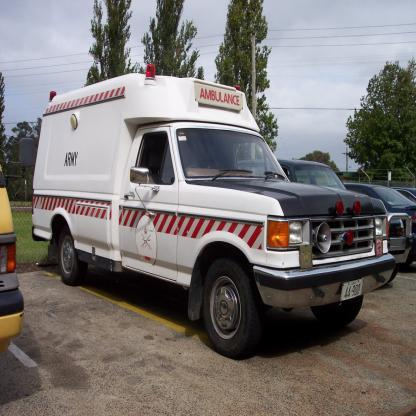ambulance_off: (31, 64, 389, 360)
